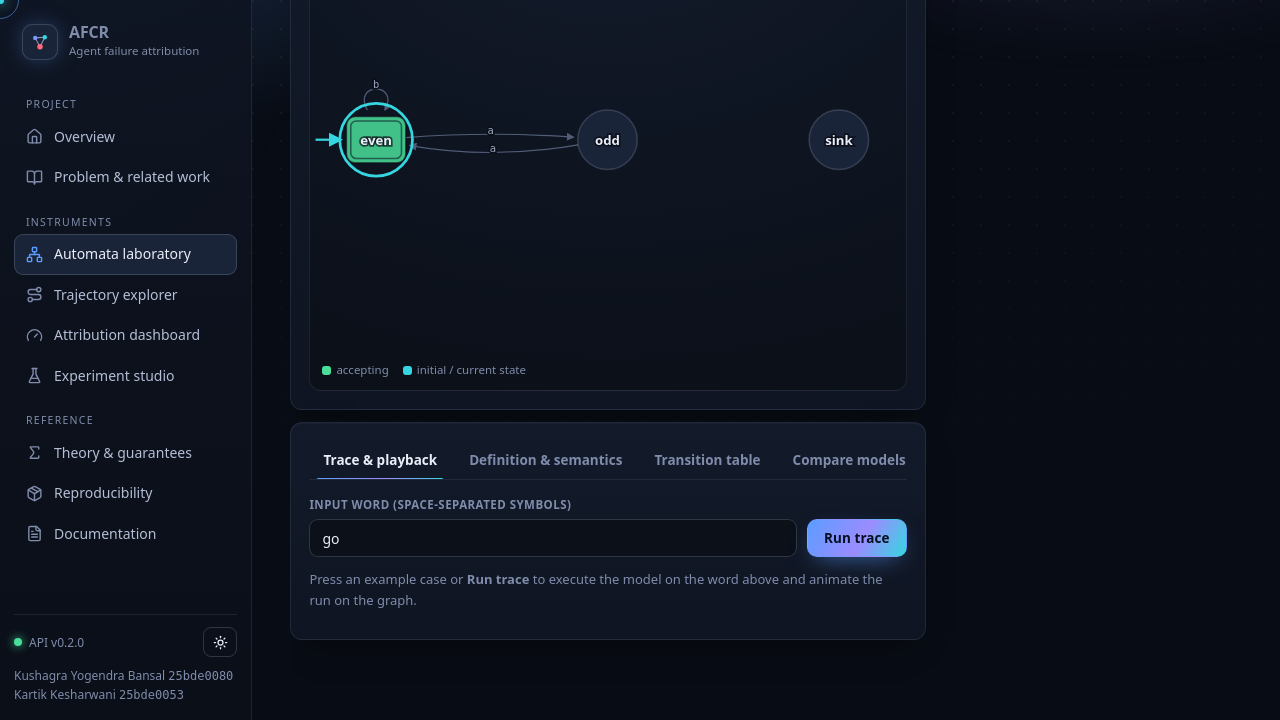
Test: automata laboratory results are specific to the machine › a rejected PDA run still has steps to play back and says why it was rejected
(page scrolled)
Click the button with test id "run-trace" at (857, 538), box [807,519,907,557]
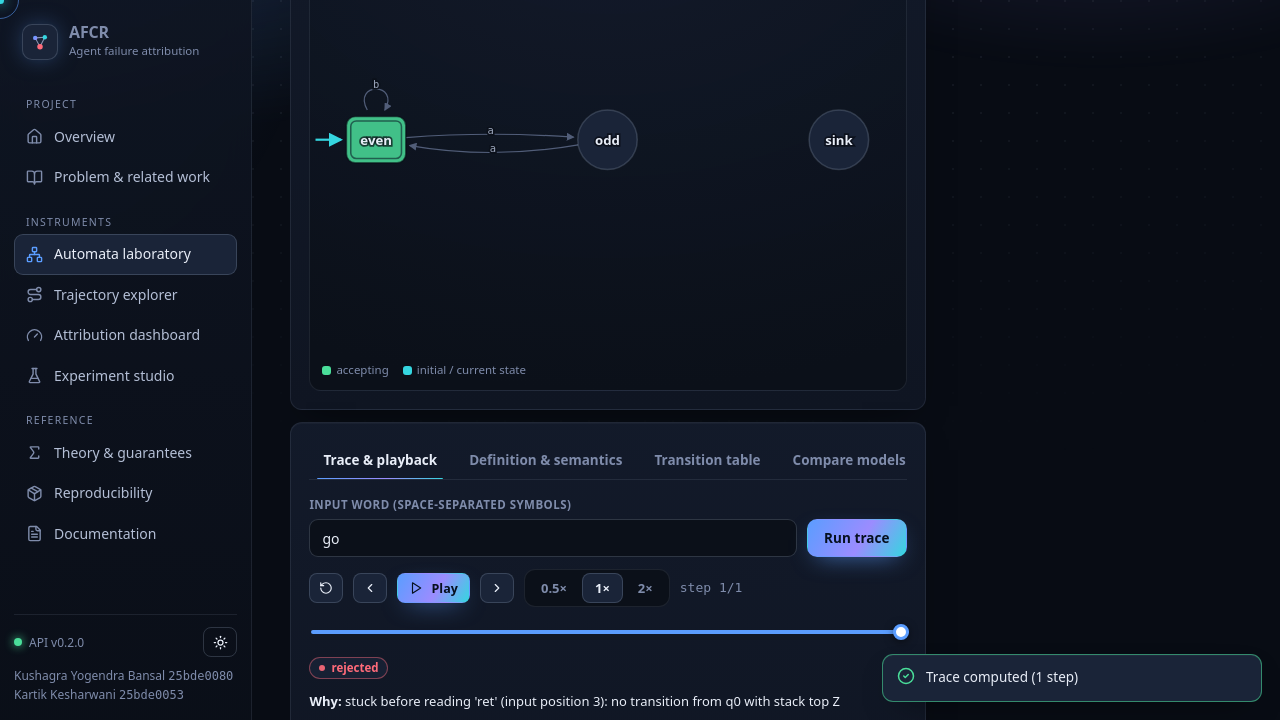
Check: the text "rejected" is shown, box [309,657,388,679]
Check: the element with test id "reject-reason" shows "stuck before reading 'ret'", box [345,692,840,710]
Check: the text "step 1/1" is shown, box [680,578,742,598]
